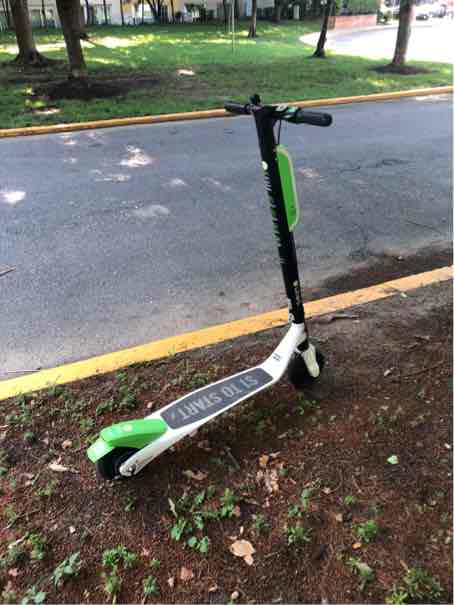scooter: (73, 90, 340, 493)
